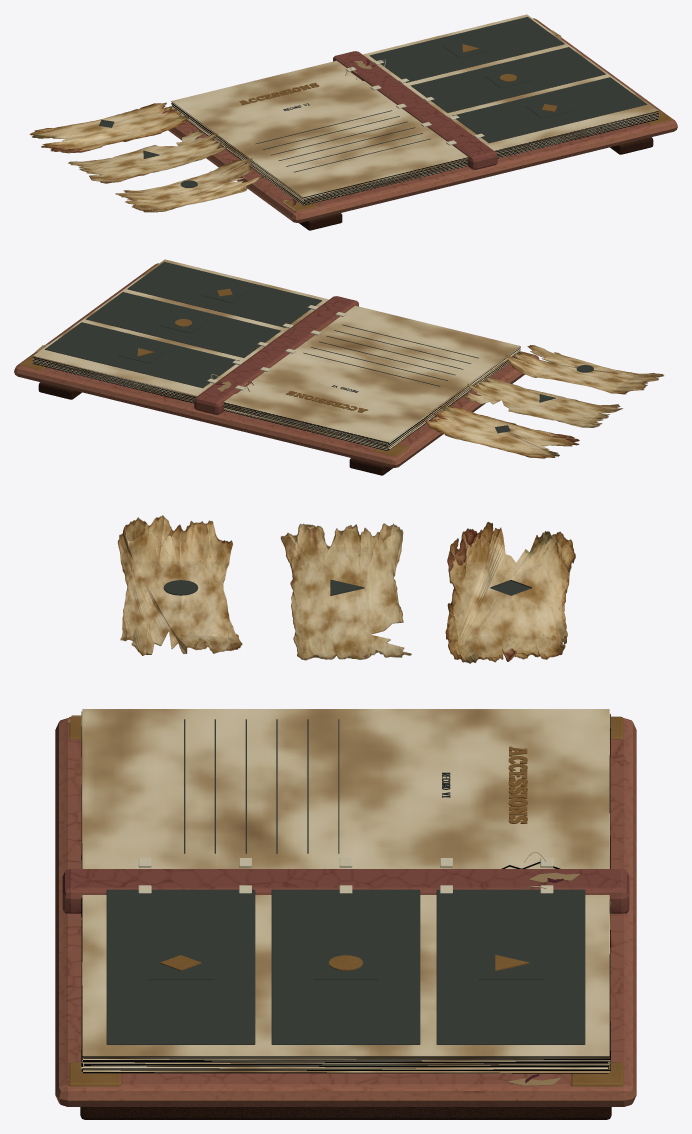
The model's file is torn-ledger.glb.
3 renders of one model, top to bottom at view 1: azimuth 30°, elevation 25°; view 2: azimuth 150°, elevation 25°; view 3: azimuth 270°, elevation 25°, orthographic. The views are drawn at different scales.
Visible parts, largest first — view 1: Ledger_Book / Ledger aged page edges, Ledger_Book / Engraved charcoal, Ledger_Book / Ledger oxblood leather, Ledger_fragment_surface_0, Ledger_fragment_surface_1, Ledger_fragment_surface_2, Ledger_Book / Aged brass, Ledger_Book / Walnut, Ledger_Book / Ivory enamel; view 2: Ledger_Book / Ledger aged page edges, Ledger_Book / Engraved charcoal, Ledger_Book / Ledger oxblood leather, Ledger_fragment_surface_0, Ledger_fragment_surface_1, Ledger_fragment_surface_2, Ledger_Book / Aged brass, Ledger_Book / Walnut, Ledger_Book / Ivory enamel; view 3: Ledger_Book / Ledger aged page edges, Ledger_Book / Engraved charcoal, Ledger_Book / Ledger oxblood leather, Ledger_fragment_surface_0, Ledger_fragment_surface_1, Ledger_fragment_surface_2, Ledger_Book / Walnut, Ledger_Book / Aged brass, Ledger_Book / Ivory enamel.
Part boxes in pixels (x1,y1,x2,y2): Ledger_Book / Ledger aged page edges: [171, 14, 659, 205]; Ledger_Book / Engraved charcoal: [255, 16, 647, 172]; Ledger_Book / Ledger oxblood leather: [164, 19, 677, 222]; Ledger_fragment_surface_0: [29, 102, 188, 153]; Ledger_fragment_surface_1: [68, 130, 226, 183]; Ledger_fragment_surface_2: [115, 158, 265, 212]; Ledger_Book / Aged brass: [170, 18, 672, 212]; Ledger_Book / Walnut: [299, 137, 653, 230]; Ledger_Book / Ivory enamel: [345, 60, 484, 145]; Ledger_Book / Ledger aged page edges: [32, 259, 520, 450]; Ledger_Book / Engraved charcoal: [44, 261, 478, 392]; Ledger_Book / Ledger oxblood leather: [14, 264, 539, 467]; Ledger_fragment_surface_0: [425, 405, 579, 458]; Ledger_fragment_surface_1: [464, 377, 622, 427]; Ledger_fragment_surface_2: [505, 345, 663, 394]; Ledger_Book / Aged brass: [19, 263, 534, 457]; Ledger_Book / Walnut: [38, 382, 392, 475]; Ledger_Book / Ivory enamel: [207, 305, 346, 390]; Ledger_Book / Ledger aged page edges: [81, 709, 610, 1073]; Ledger_Book / Engraved charcoal: [106, 719, 585, 1044]; Ledger_Book / Ledger oxblood leather: [55, 718, 636, 1106]; Ledger_fragment_surface_0: [445, 522, 575, 663]; Ledger_fragment_surface_1: [280, 523, 411, 660]; Ledger_fragment_surface_2: [117, 515, 242, 655]; Ledger_Book / Walnut: [80, 1107, 611, 1119]; Ledger_Book / Aged brass: [68, 716, 623, 1086]; Ledger_Book / Ivory enamel: [138, 858, 553, 893].
Size of the model in its own units: 1.73 by 0.1752 by 0.81.
12 materials, 8 textured.
